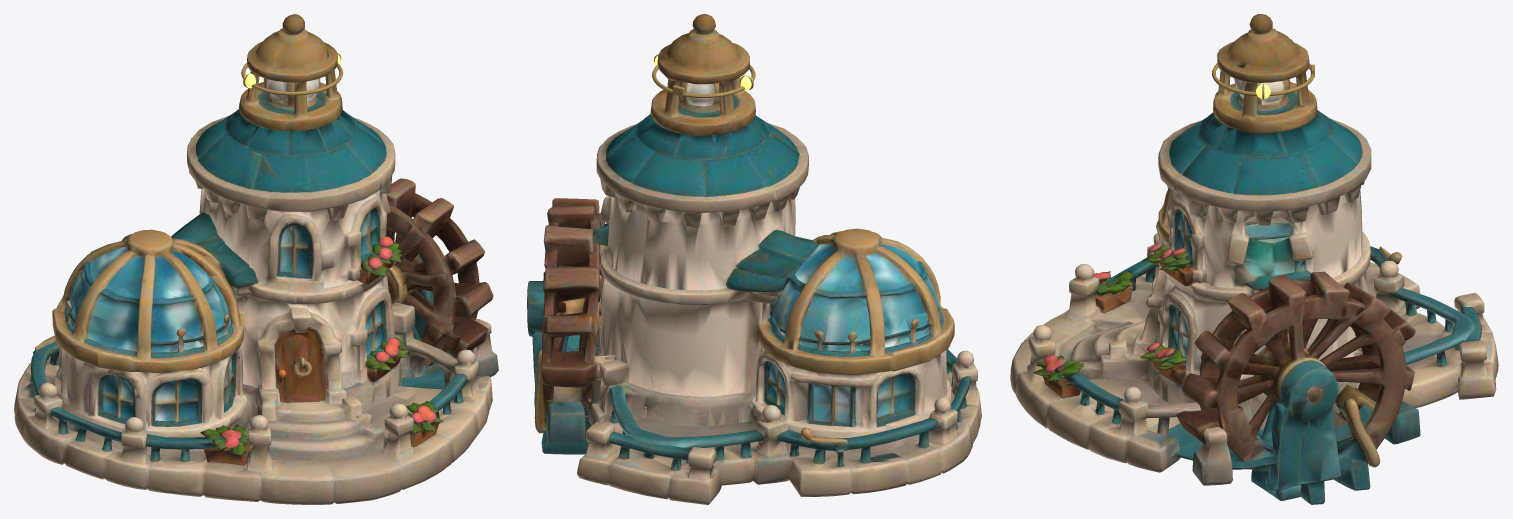
The model's file is harbor_lighthouse.glb.
3 renders of one model, left to right at view 1: azimuth 30°, elevation 25°; view 2: azimuth 150°, elevation 25°; view 3: azimuth 270°, elevation 25°, orthographic.
Parts seen in each view (by area): view 1: harbor_lighthouse_ai_building, harbor_lighthouse_beacon_signal; view 2: harbor_lighthouse_ai_building, harbor_lighthouse_beacon_signal; view 3: harbor_lighthouse_ai_building, harbor_lighthouse_beacon_signal.
Part boxes in pixels (x1,y1,x2,y2): harbor_lighthouse_ai_building: (14,14,498,504); harbor_lighthouse_beacon_signal: (241,53,343,95); harbor_lighthouse_ai_building: (527,14,981,504); harbor_lighthouse_beacon_signal: (652,54,755,97); harbor_lighthouse_ai_building: (1010,14,1498,504); harbor_lighthouse_beacon_signal: (1212,63,1314,99).
Size of the model in its own units: 3 by 2.81 by 2.9.
Materials: 3 (1 with a texture image).
